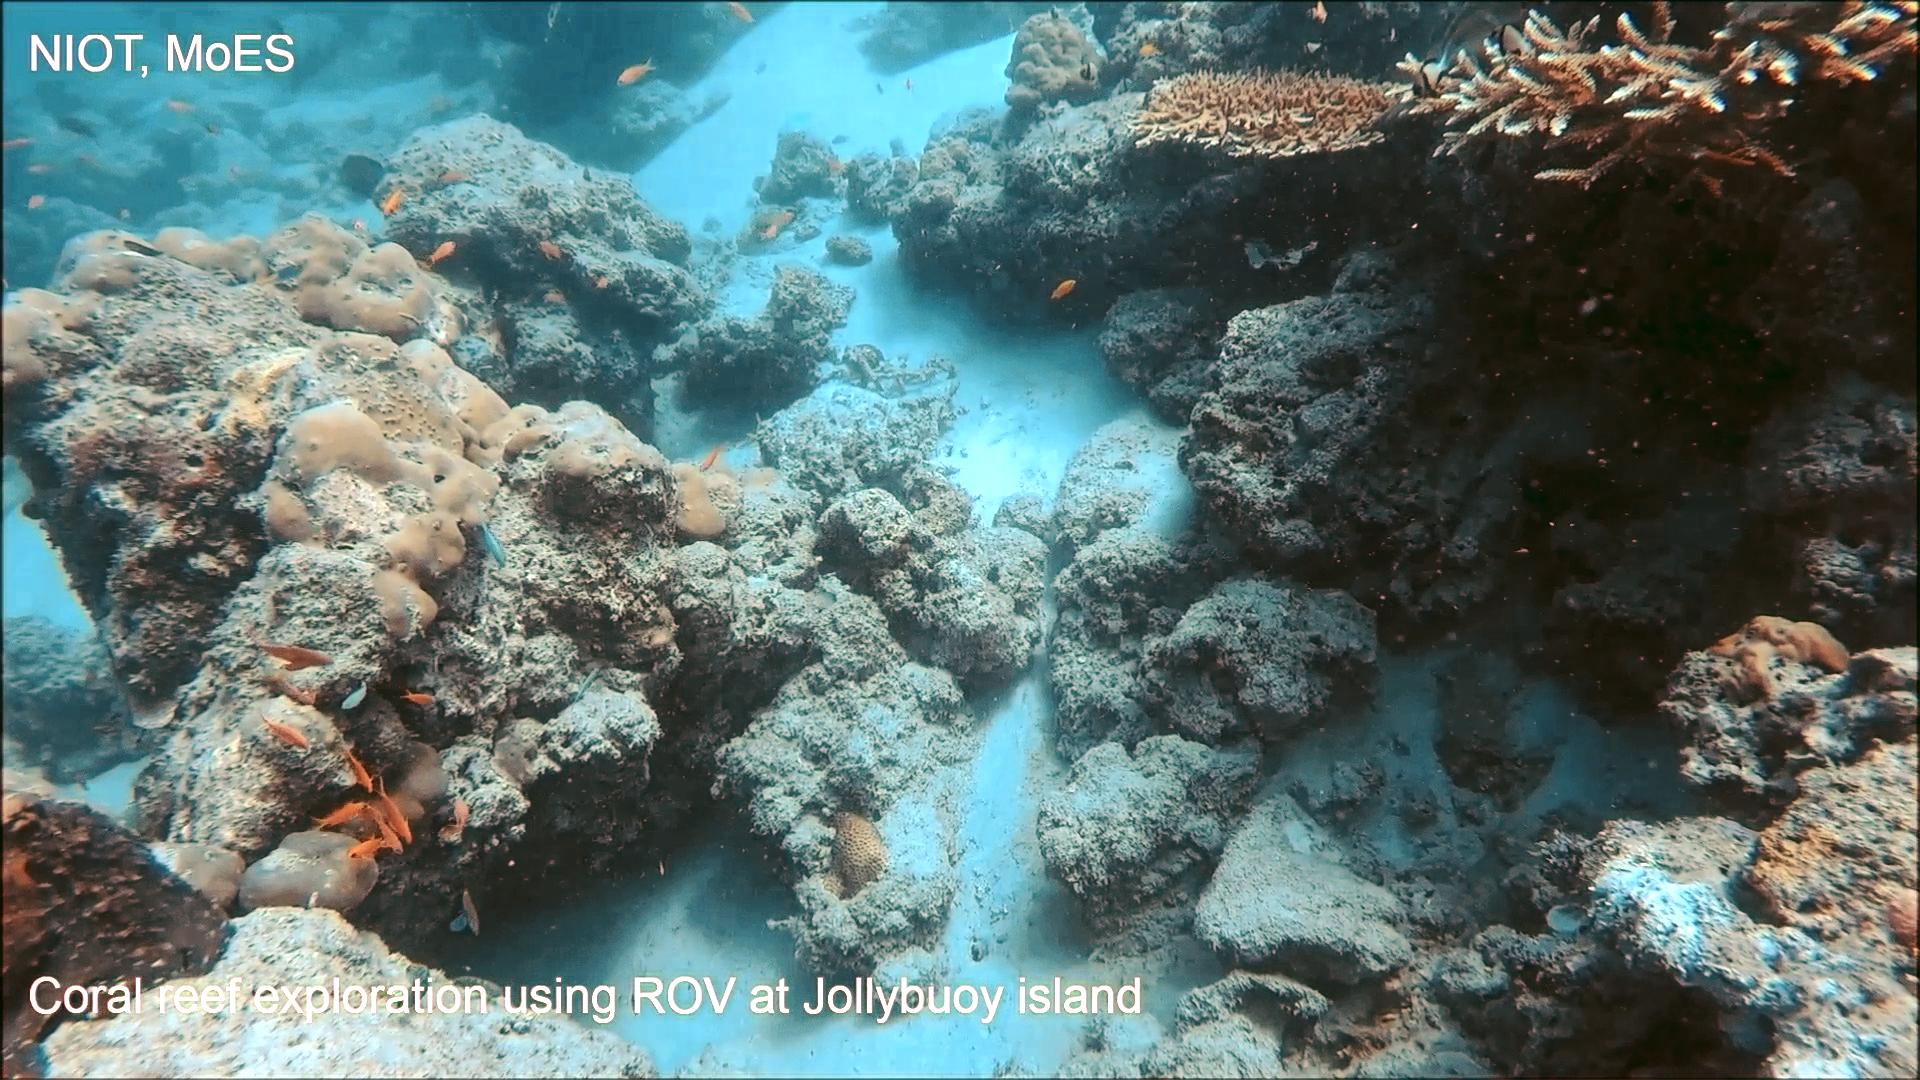Porites-Porites pukoensis: (248, 210, 563, 654)
